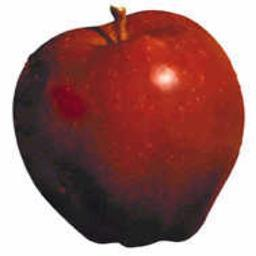apple: (12, 4, 245, 249)
